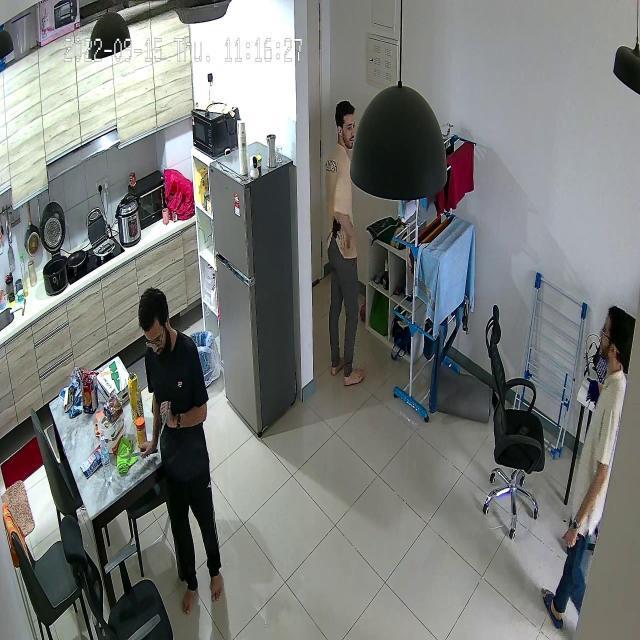Gun: (325, 215, 351, 249)
